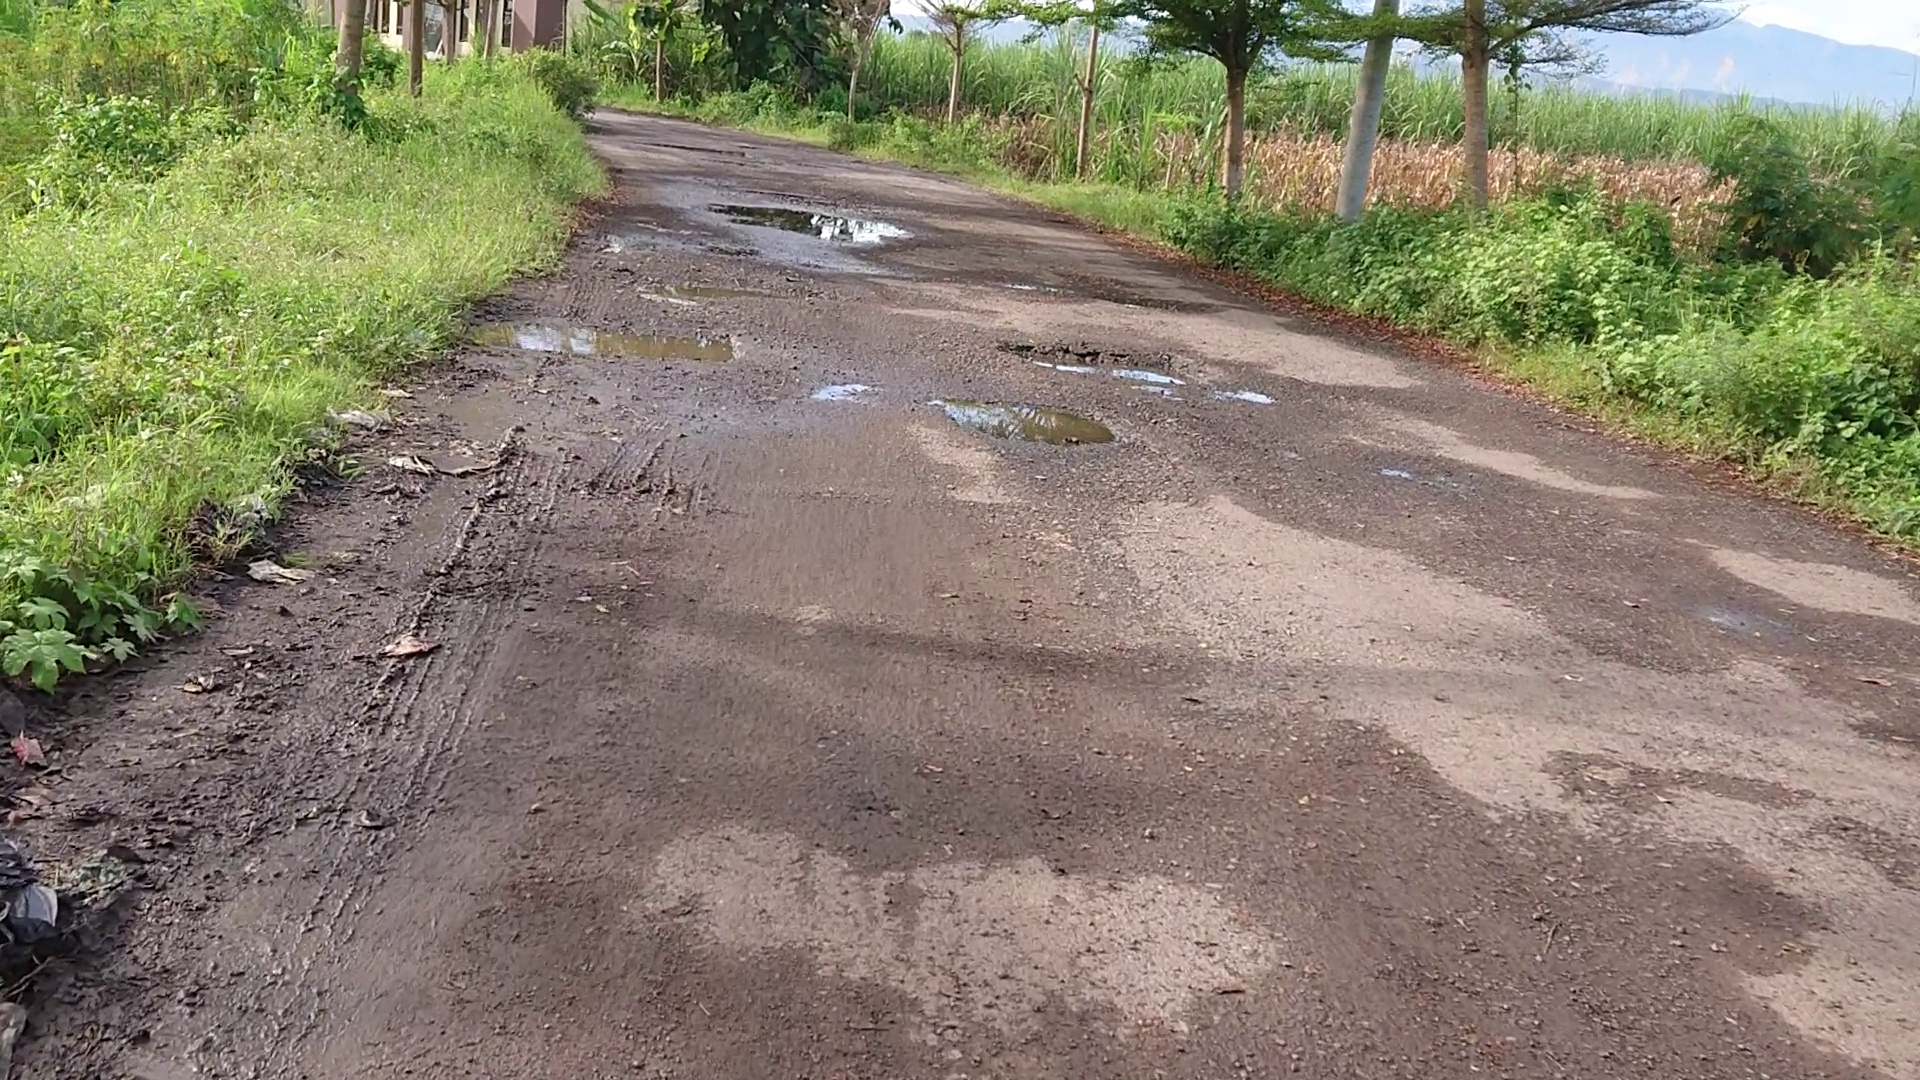Berlubang: (895, 323, 1213, 443), (699, 196, 913, 247), (989, 265, 1184, 314)
